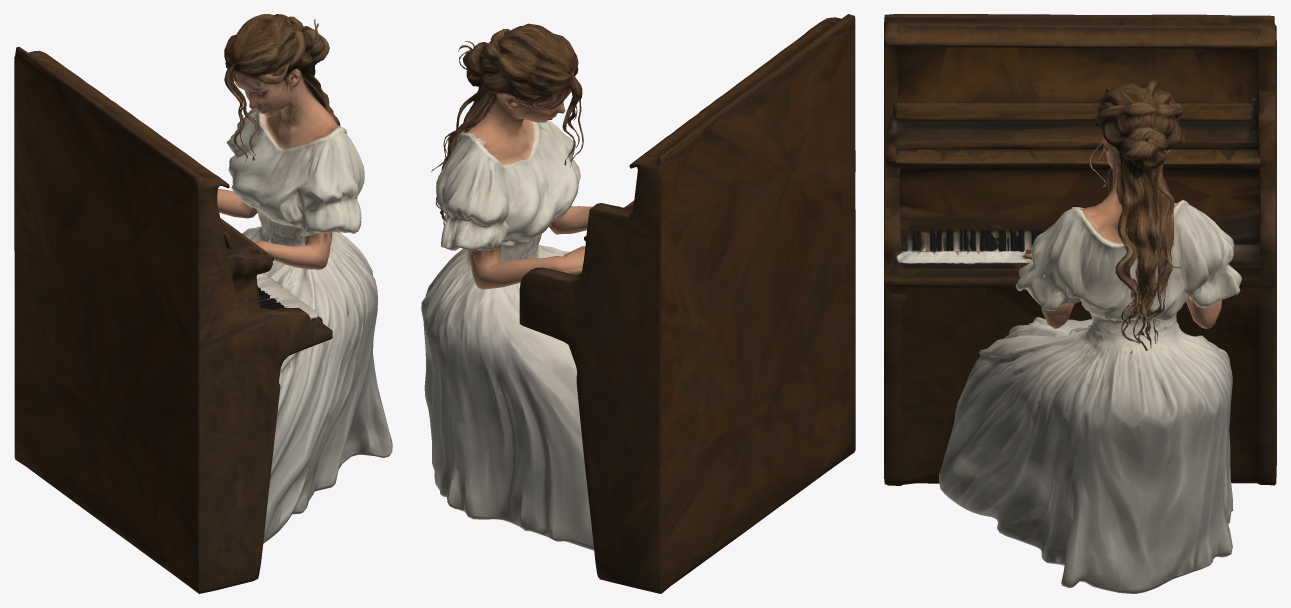
File: WhispersPiano.glb
The picture shows the model from 3 angles, left to right: view 1: azimuth 30°, elevation 25°; view 2: azimuth 150°, elevation 25°; view 3: azimuth 270°, elevation 25°; orthographic projection. The views are drawn at different scales.
Parts seen in each view (by area): view 1: WhispersPiano; view 2: WhispersPiano; view 3: WhispersPiano.
Part boxes in pixels (left/top/right/bottom): WhispersPiano: left=14, top=14, right=392, bottom=593; WhispersPiano: left=421, top=14, right=855, bottom=593; WhispersPiano: left=884, top=14, right=1276, bottom=593.
Bounding box in the file's own units: 0.8378 × 1.25 × 0.945.
1 material, 1 textured.
